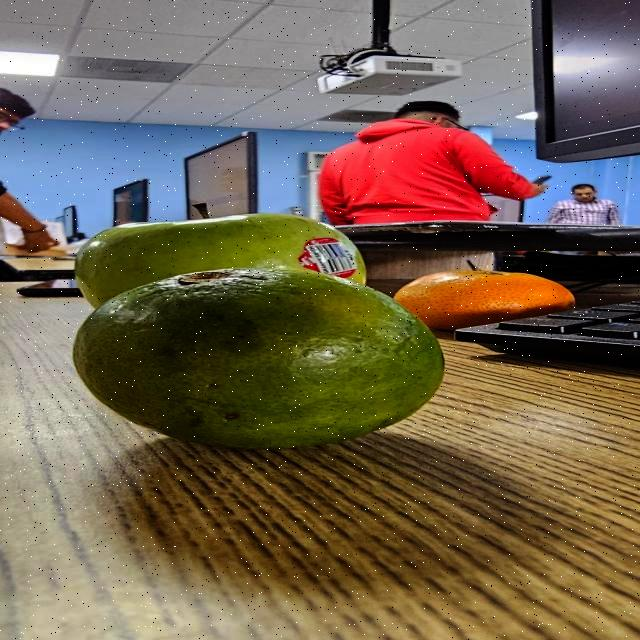Jeruk Mandarin: (379, 267, 587, 335)
Lemon: (66, 265, 456, 456)
